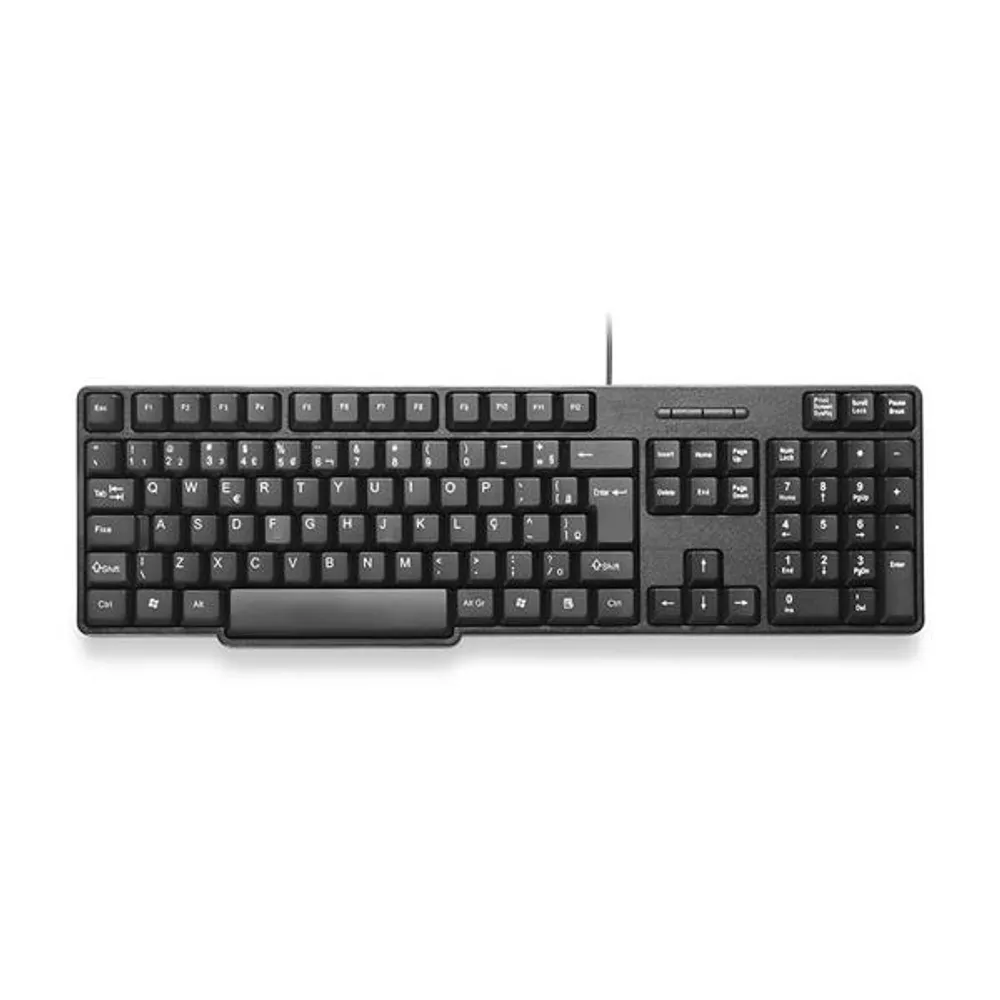keyboard: (72, 379, 928, 648)
